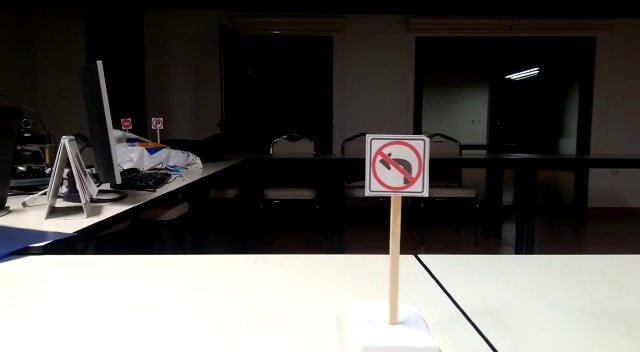sola_donulmez: (370, 138, 425, 192)
